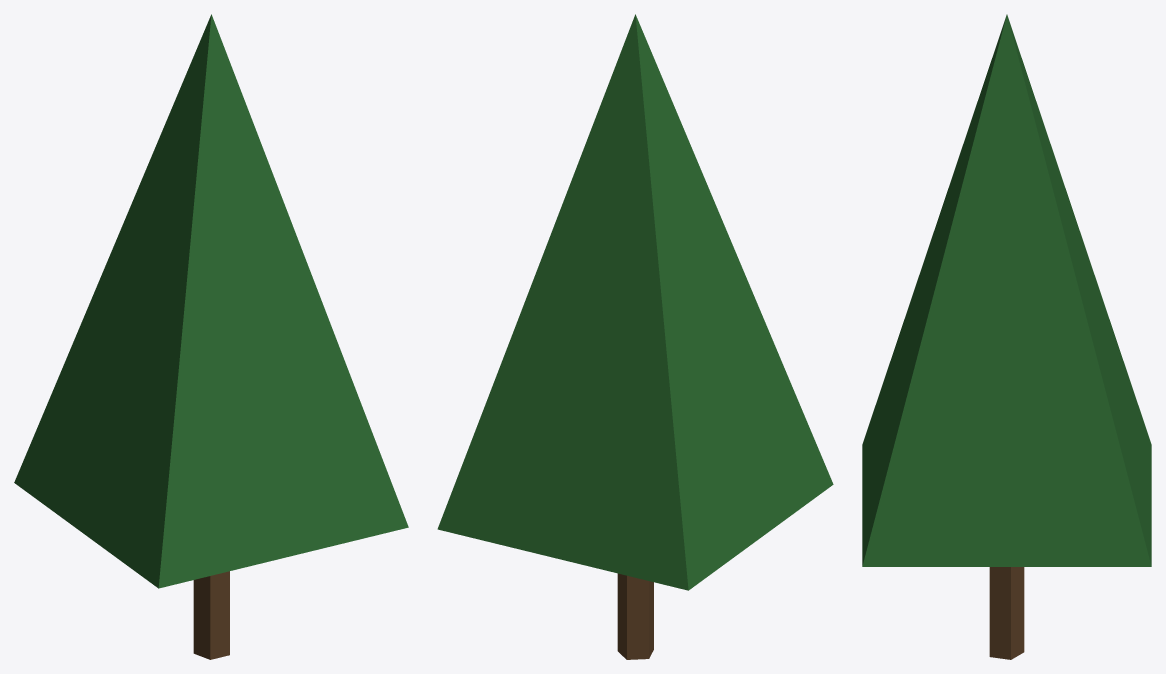
The model's file is tree-triangle.glb.
3 views of the same model, side by side, from view 1: azimuth 30°, elevation 25°; view 2: azimuth 150°, elevation 25°; view 3: azimuth 270°, elevation 25° (orthographic).
Parts seen in each view (by area): view 1: tree-triangle; view 2: tree-triangle; view 3: tree-triangle.
Part boxes in pixels (left/top/right/bottom): tree-triangle: left=14, top=14, right=408, bottom=659; tree-triangle: left=437, top=14, right=833, bottom=659; tree-triangle: left=862, top=14, right=1151, bottom=659.
Bounding box in the file's own units: 1.98 × 4.82 × 1.98.
1 material, 1 textured.
